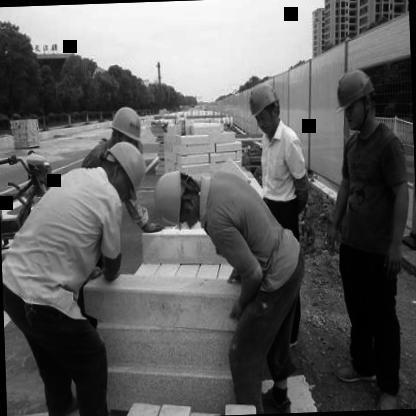helmet: (91, 132, 152, 205), (333, 62, 380, 134), (151, 165, 197, 233), (247, 78, 284, 138), (109, 103, 146, 158)
